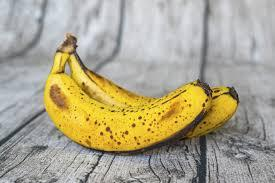banana: (28, 20, 235, 152)
